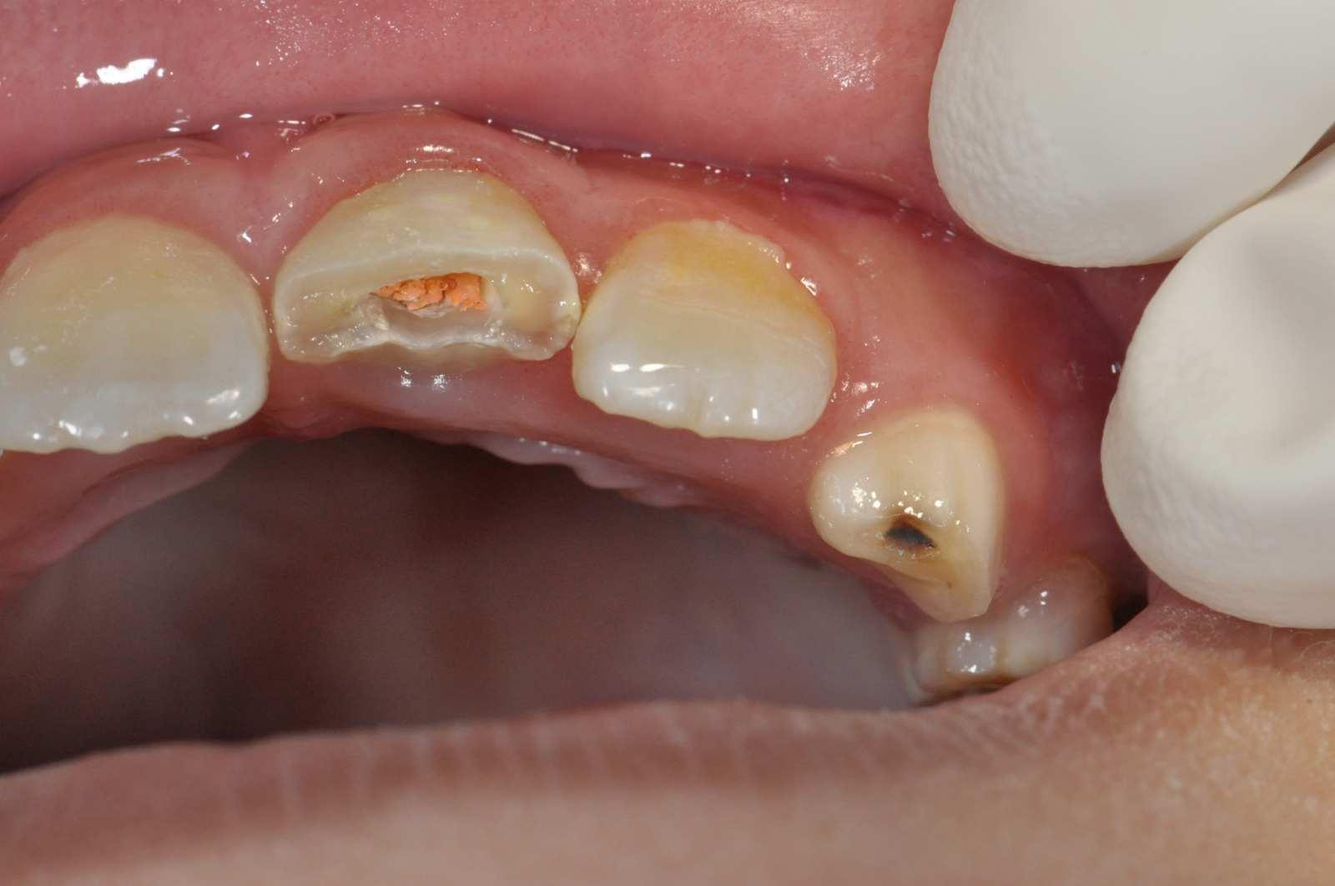Fractured Teeth: (270, 155, 582, 369)
Spaced: (752, 355, 943, 502)
